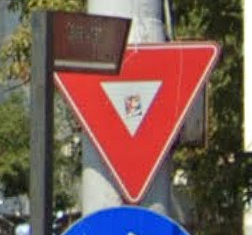cedeaza: (38, 36, 229, 210)
